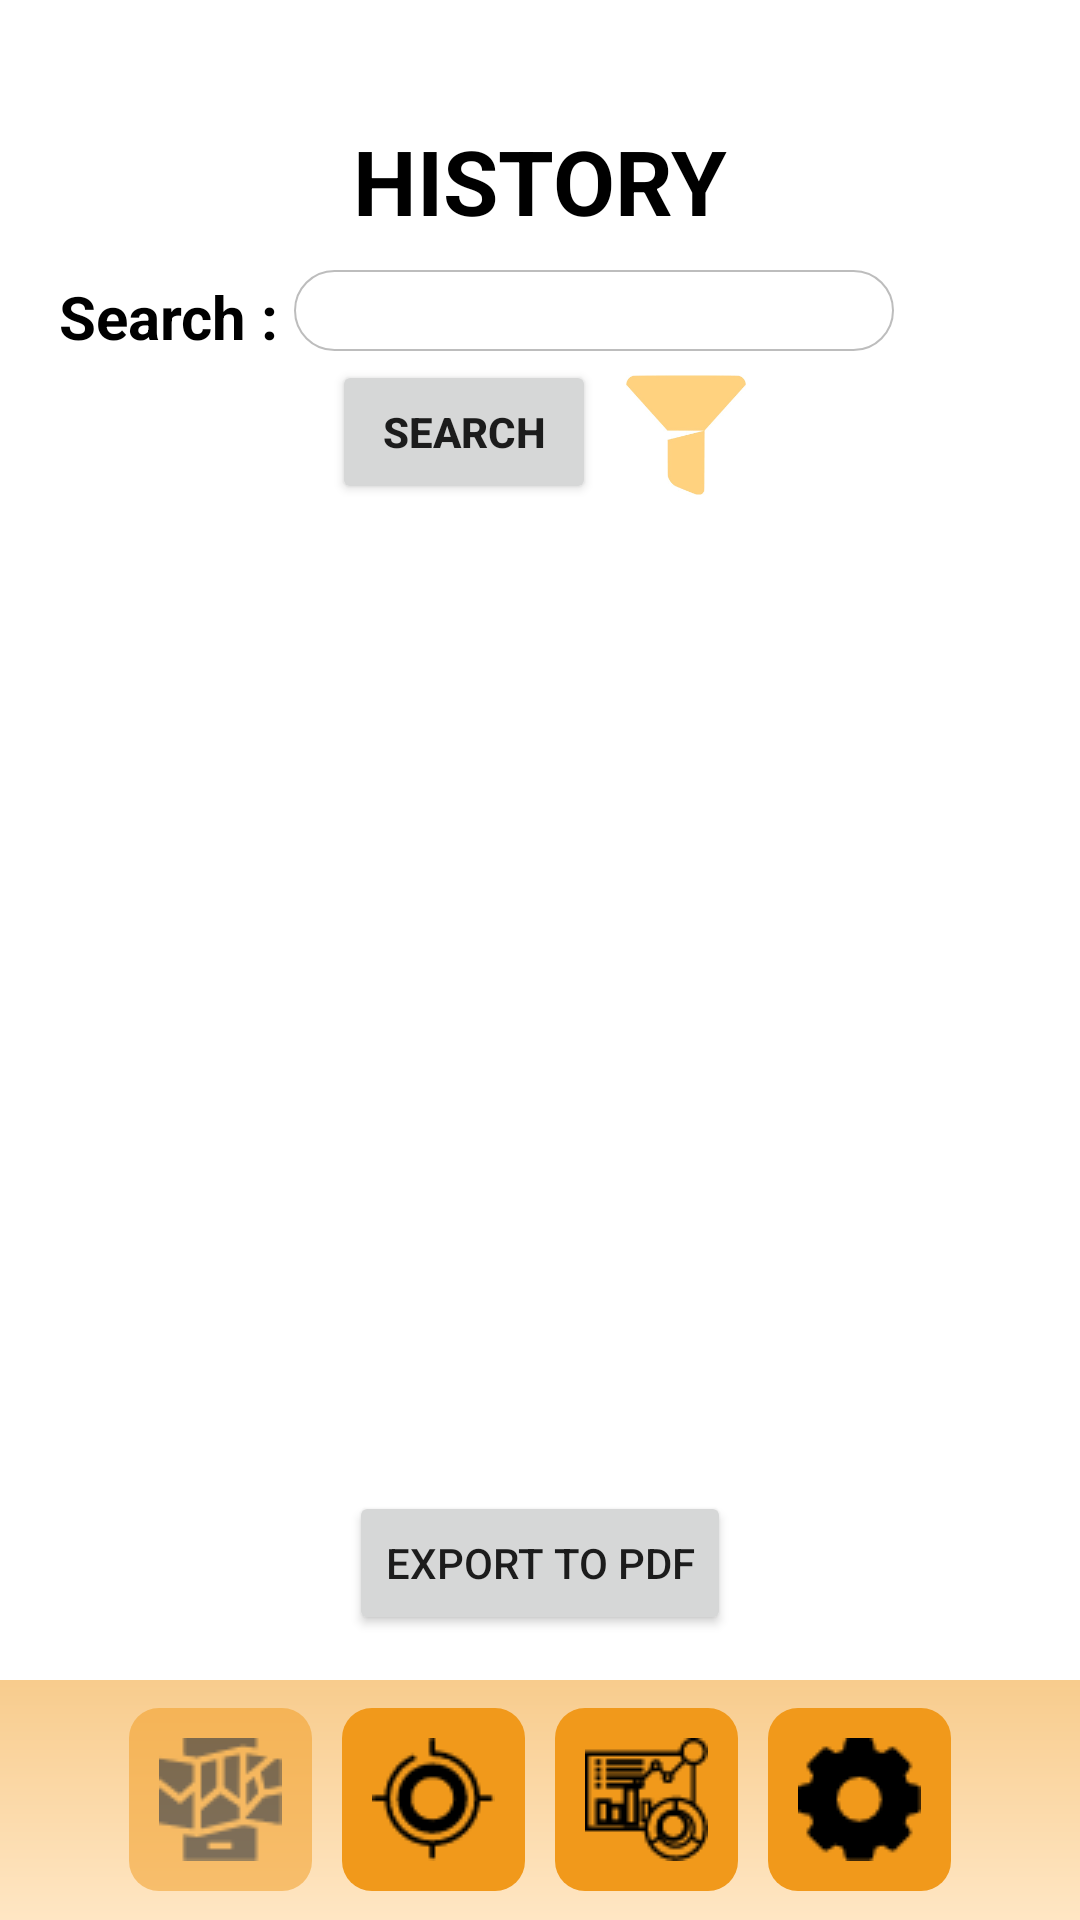

Icons on this 1080 x 1920 Android screen, each with the point to tap as (x,y):
filter: (686,435)
map: (220,1799)
setting: (859,1799)
stat: (646,1799)
target: (433,1799)
